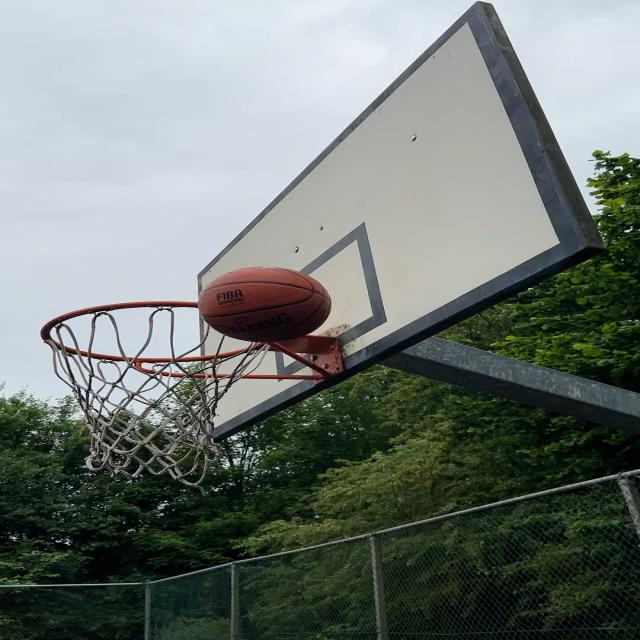rebound_hit: (203, 266, 332, 340)
